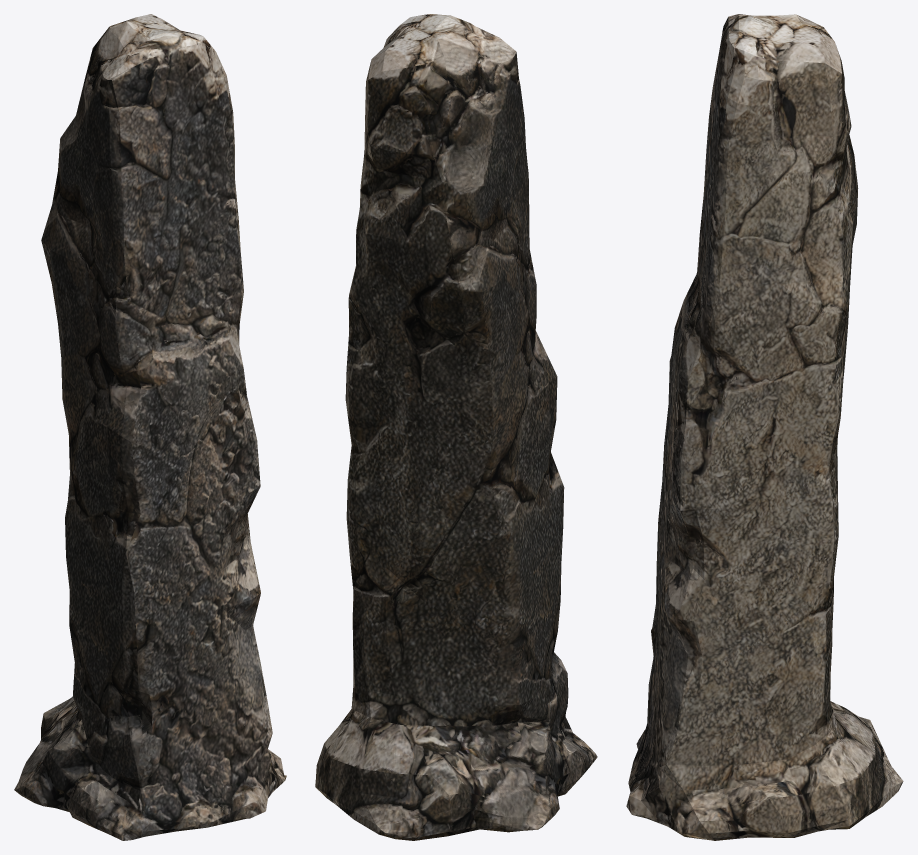
The model's file is Pillar.fbx.
3 views of the same model, side by side, from view 1: azimuth 30°, elevation 25°; view 2: azimuth 150°, elevation 25°; view 3: azimuth 270°, elevation 25° (orthographic). The views are drawn at different scales.
Visible parts, largest first — view 1: Pillar_Low; view 2: Pillar_Low; view 3: Pillar_Low.
Part boxes in pixels (x1,y1,x2,y2): Pillar_Low: [14, 14, 286, 840]; Pillar_Low: [315, 14, 597, 840]; Pillar_Low: [626, 14, 903, 840].
Bounding box in the file's own units: 30.03 × 98.68 × 31.8.
1 material, 1 textured.
